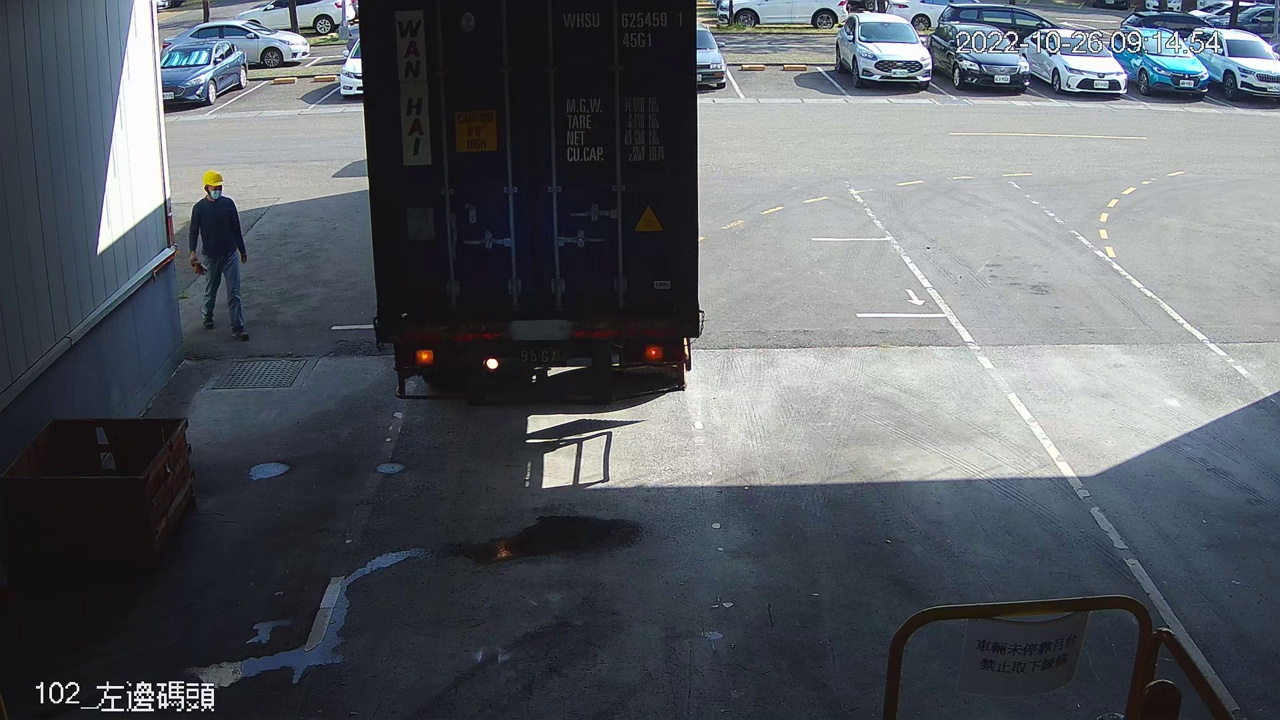container: (557, 5, 689, 54)
